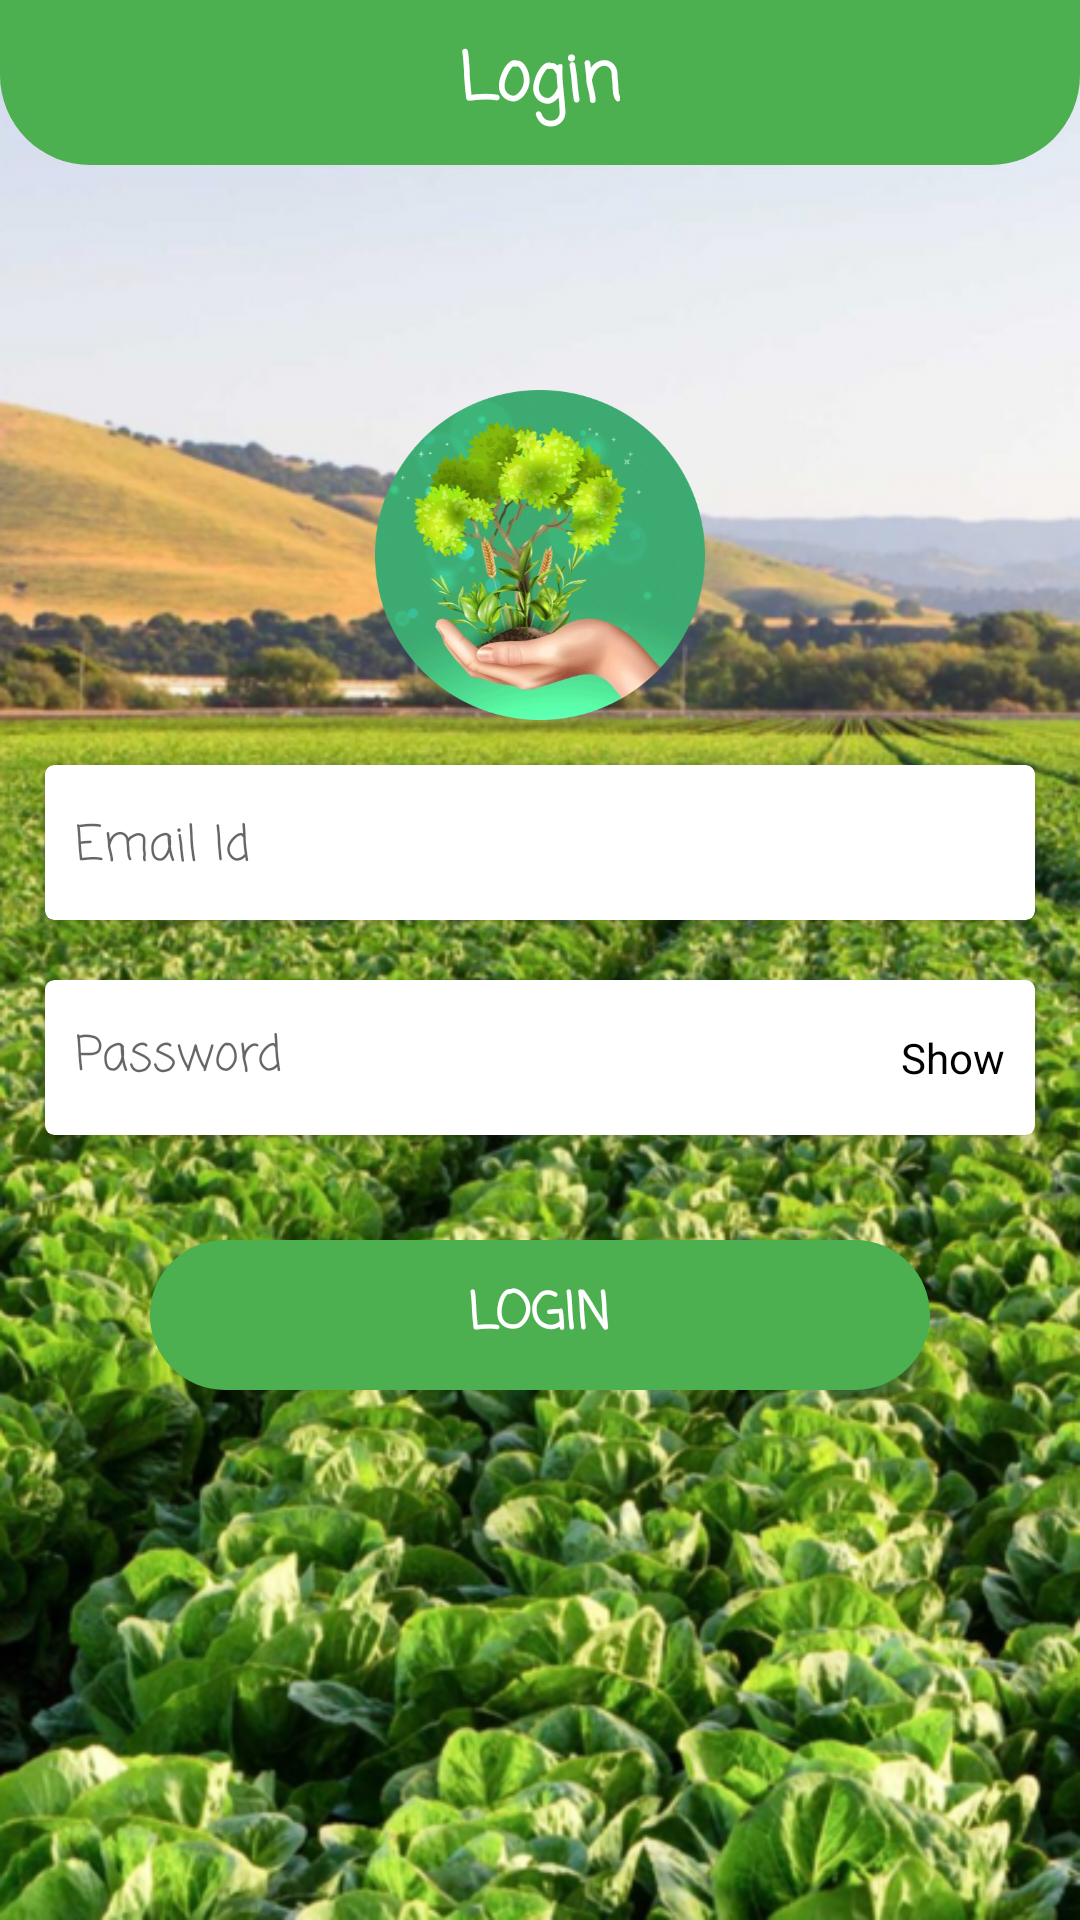

Icon click points for this 1080x1920 phone screenshot, format (x=x, y=y):
farmdp: (x=540, y=555)
